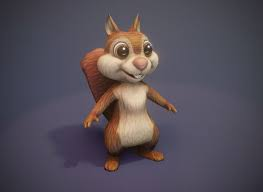squirrel: (80, 15, 179, 170)
